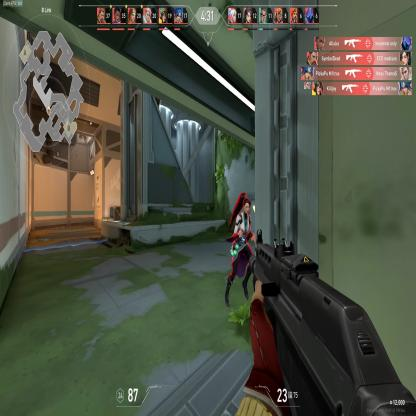enemy: (223, 191, 255, 308)
